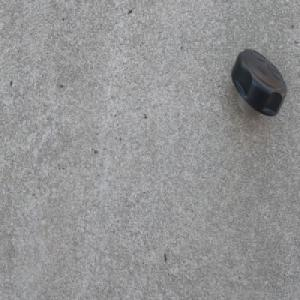FuelCap: (230, 47, 287, 120)
